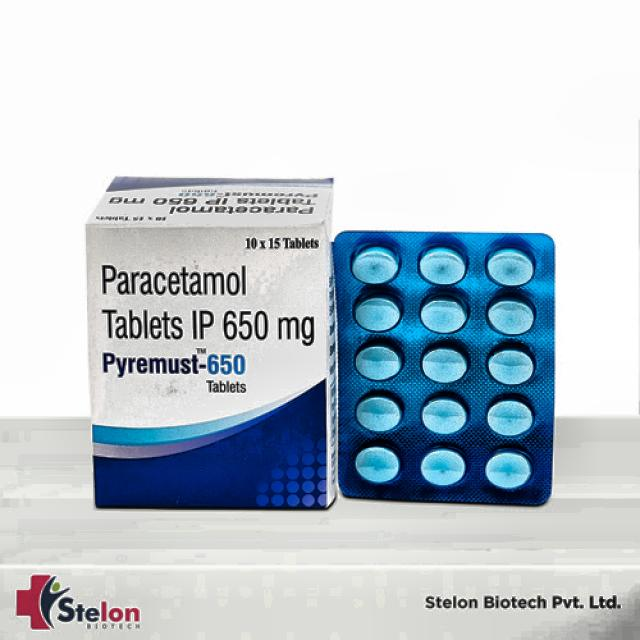Paracetamol: (100, 252, 320, 387)
